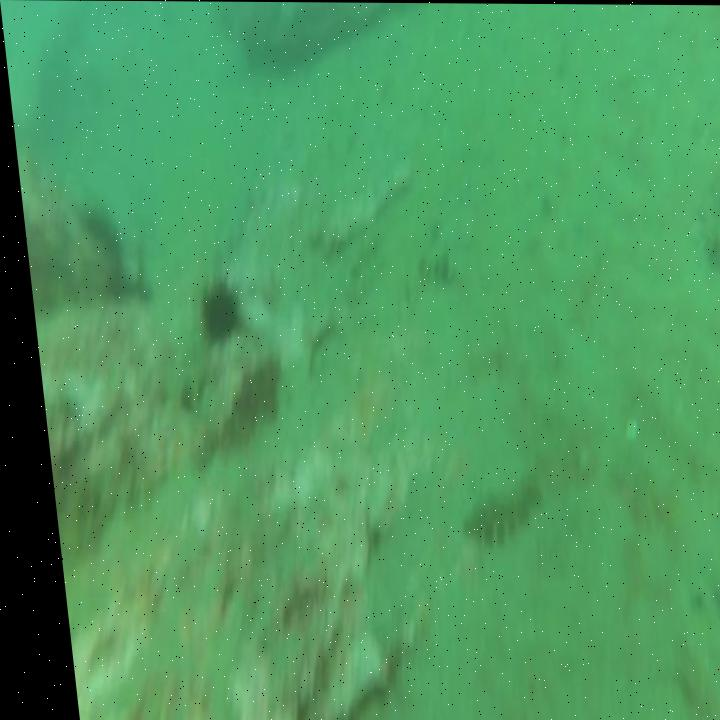echinus: (182, 264, 248, 355)
holothurian: (440, 468, 539, 556)
